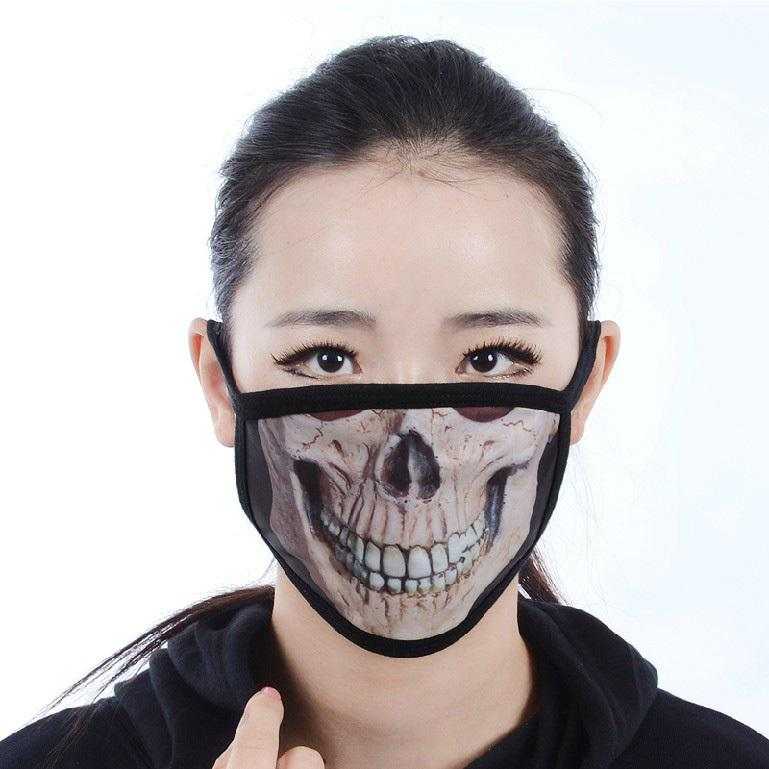OK: (230, 289, 584, 643)
